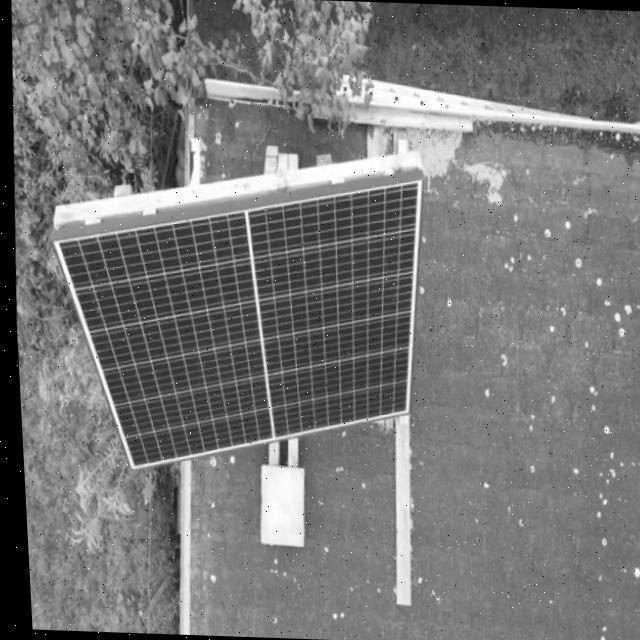Normal Solar Panel: (49, 170, 430, 474)
